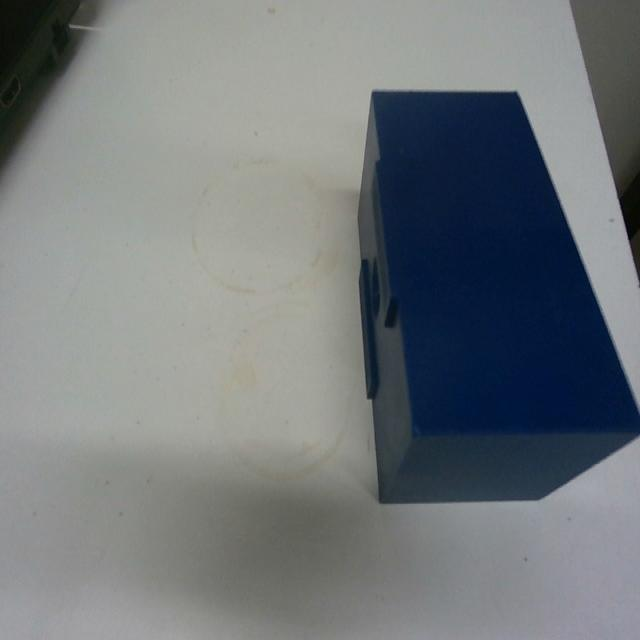Blue Cuboid: (354, 86, 639, 506)
